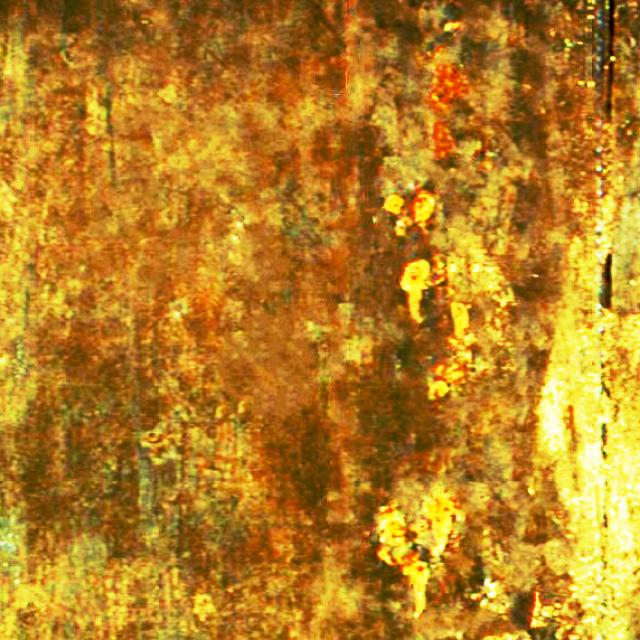Corrosion: (376, 502, 428, 587), (410, 490, 457, 555), (446, 301, 474, 352), (432, 66, 466, 108), (431, 360, 463, 397), (400, 260, 430, 291), (432, 122, 455, 158), (413, 191, 435, 225), (382, 194, 404, 214), (445, 21, 460, 32)
